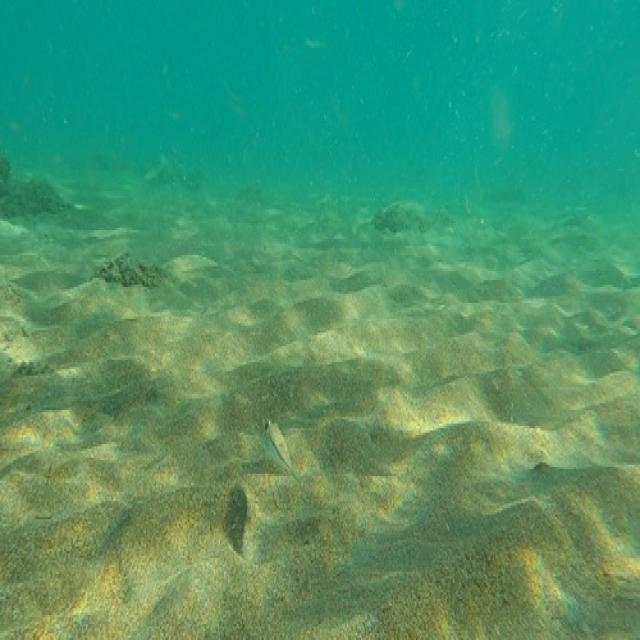Balik: (263, 420, 298, 478)
